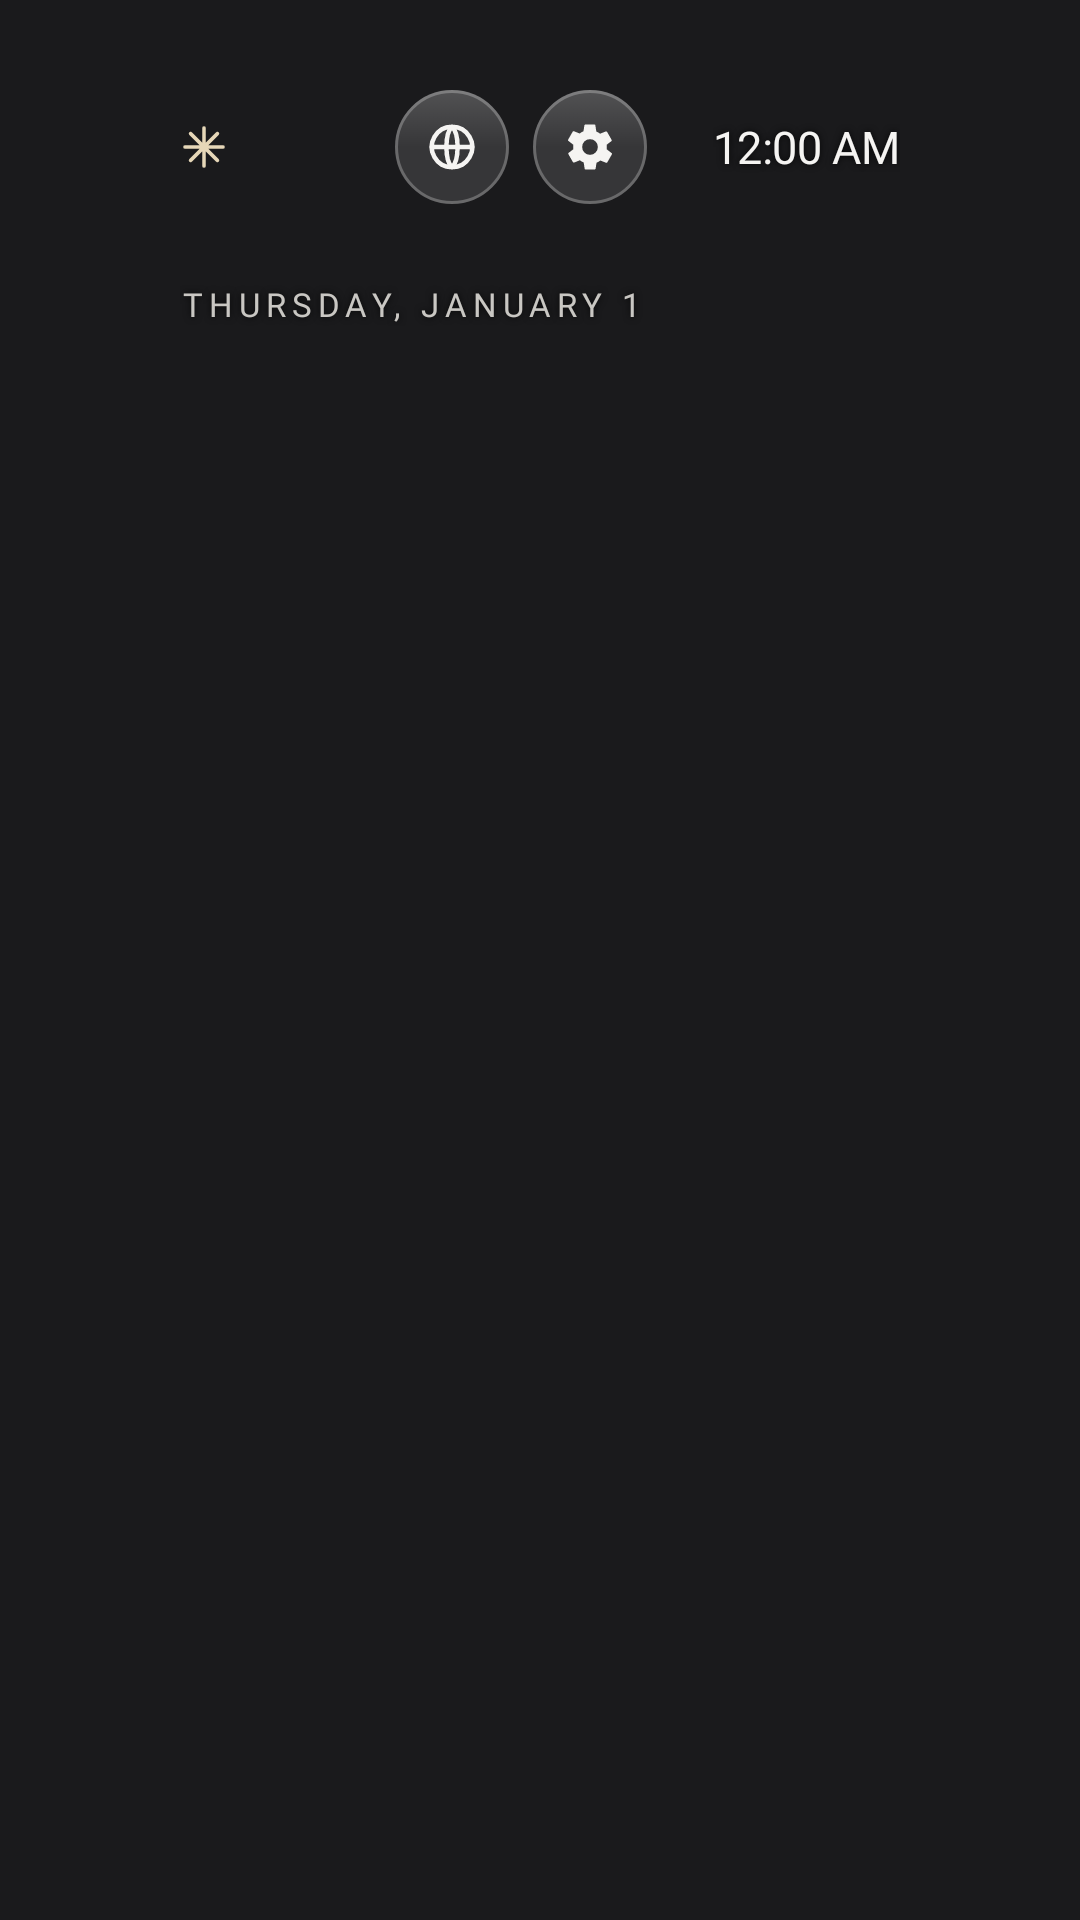

Where to tap for icons on this 1080 x 1920 app screen, as (x,y):
Network: (452,147)
Settings: (590,147)
spark: (204,147)
